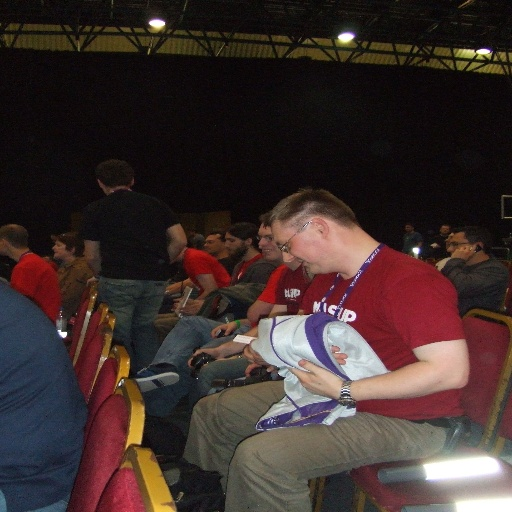hand: (284, 363, 362, 397), (187, 347, 224, 366), (241, 362, 279, 378), (449, 243, 478, 263), (241, 338, 262, 361), (210, 323, 236, 339), (179, 301, 202, 317), (171, 296, 194, 311), (331, 345, 346, 364)
